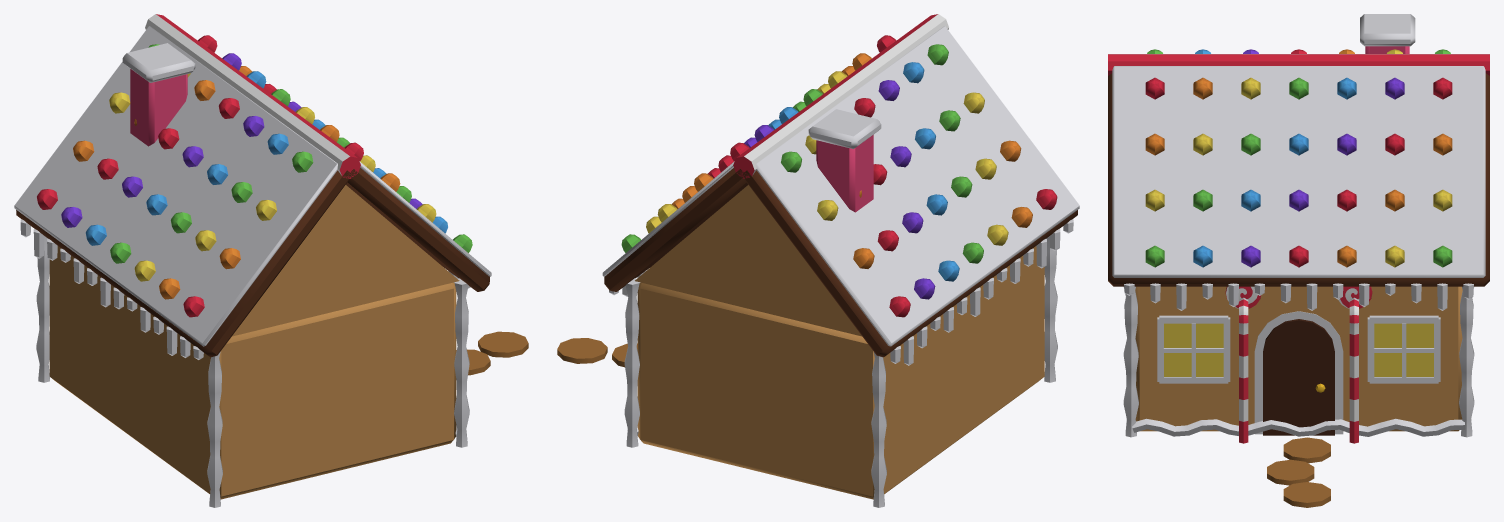
Rendered from gingerbread_house.glb.
The picture shows the model from 3 angles, left to right: view 1: azimuth 30°, elevation 25°; view 2: azimuth 150°, elevation 25°; view 3: azimuth 270°, elevation 25°; orthographic projection.
Visible parts, largest first — view 1: gingerbread_house; view 2: gingerbread_house; view 3: gingerbread_house.
Part boxes in pixels (bbox=[...]): gingerbread_house: bbox=[14, 14, 528, 507]; gingerbread_house: bbox=[557, 14, 1079, 507]; gingerbread_house: bbox=[1108, 14, 1489, 507].
Bounding box in the file's own units: 8.65 × 6.55 × 6.9.
